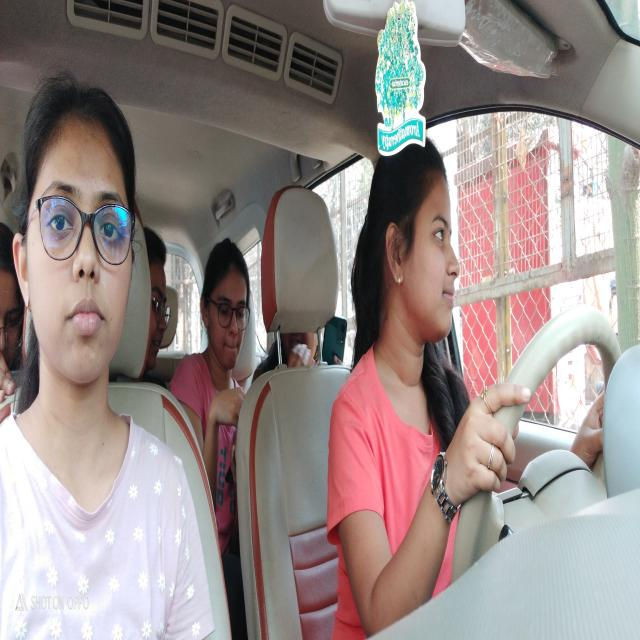person: (27, 103, 131, 384), (382, 166, 462, 346), (210, 246, 249, 369), (150, 248, 172, 364), (0, 249, 18, 378)
